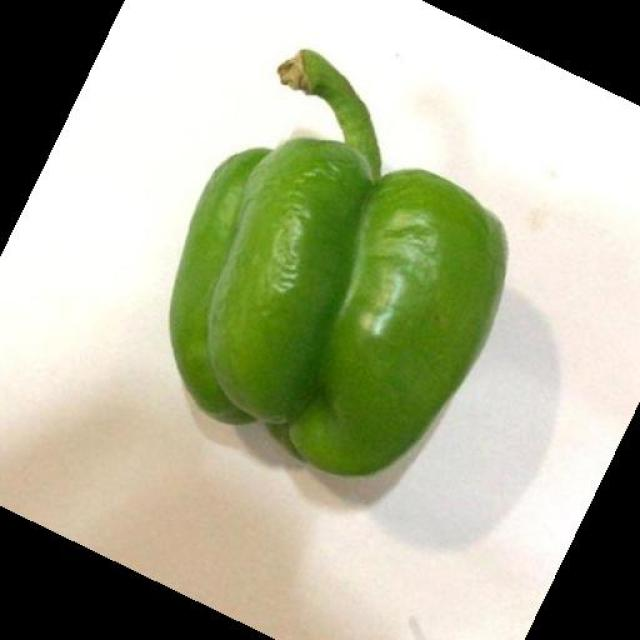Fresh_Capsicum: (171, 43, 487, 452)
